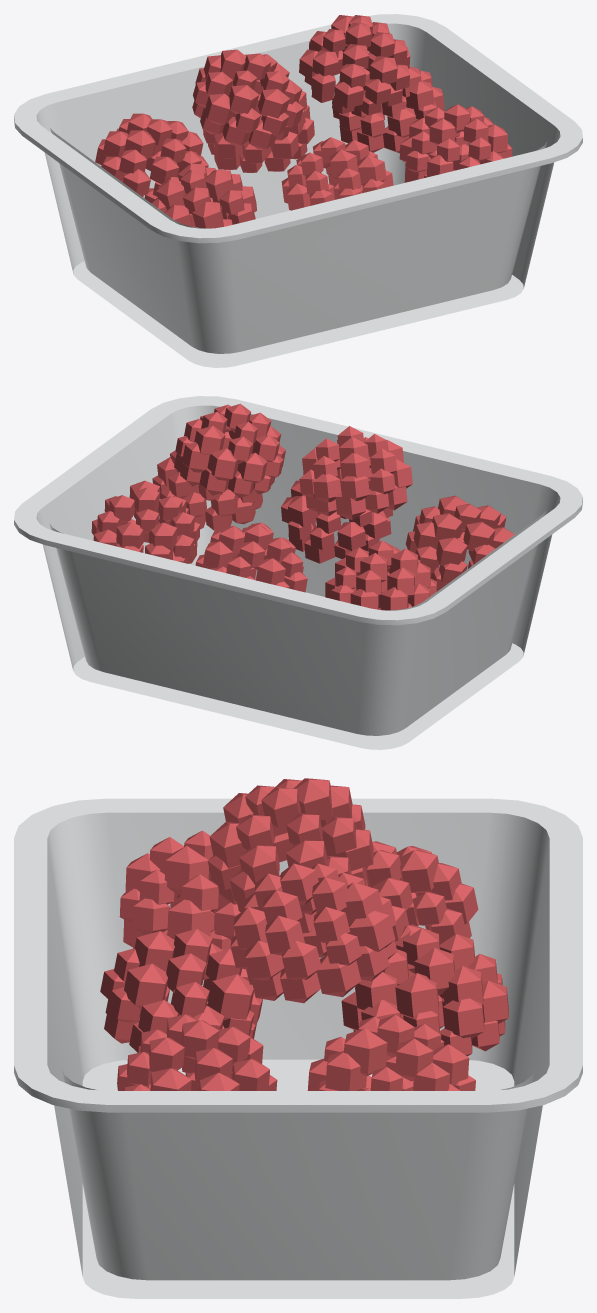
File: fresh-produce-and-groceries-raspberries-punnet-c13bdf12__24327.glb
3 views of the same model, one above another, from view 1: azimuth 30°, elevation 25°; view 2: azimuth 150°, elevation 25°; view 3: azimuth 270°, elevation 25° (orthographic). The views are drawn at different scales.
Visible parts, largest first — view 1: raspberries-punnet; view 2: raspberries-punnet; view 3: raspberries-punnet.
Part boxes in pixels (left/top/right/bottom): raspberries-punnet: left=14, top=14, right=582, bottom=367; raspberries-punnet: left=14, top=396, right=582, bottom=749; raspberries-punnet: left=14, top=778, right=582, bottom=1298.
Bounding box in the file's own units: 0.13 × 0.071 × 0.102.
